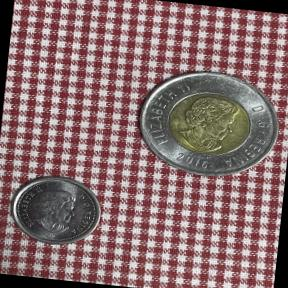coin: (127, 61, 288, 191), (4, 168, 108, 251)
